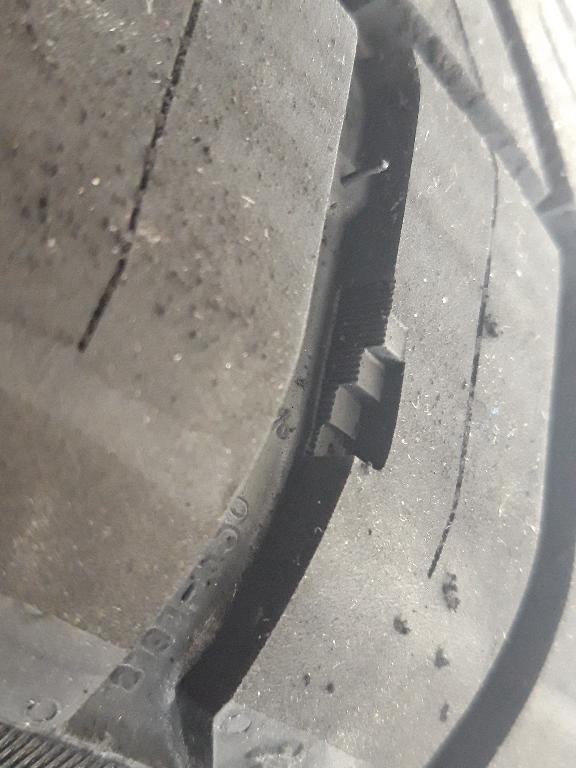temoin:75: (295, 306, 417, 482)
